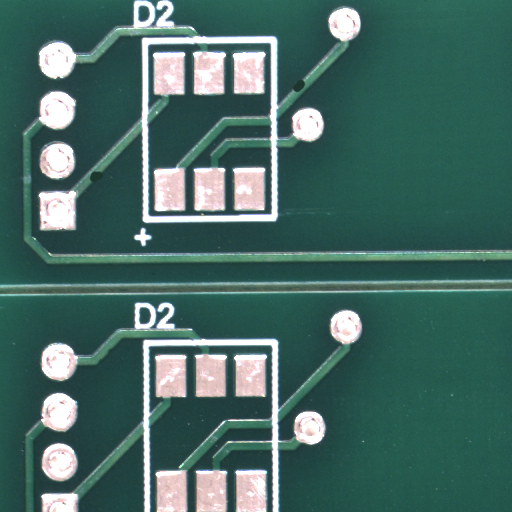Mouse_bite: (298, 86, 310, 99), (96, 177, 110, 188)
